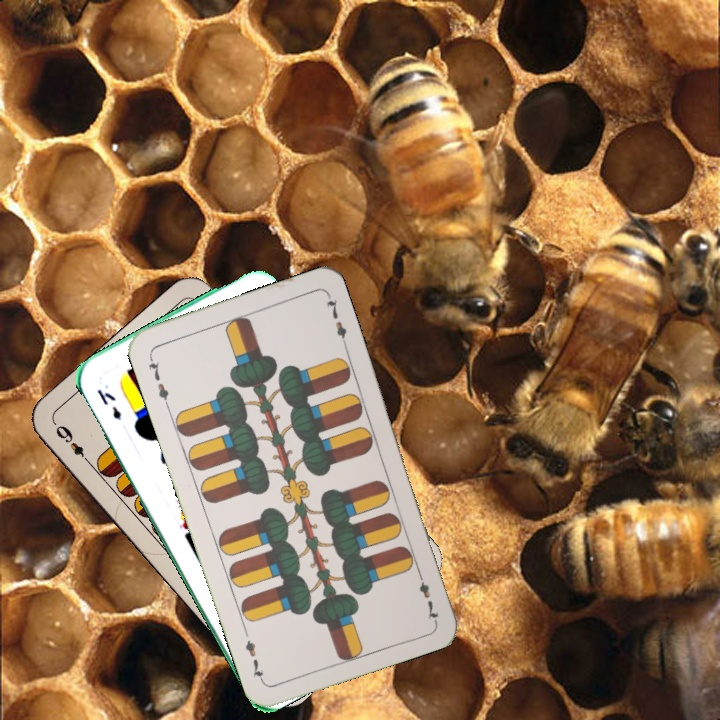E7: (144, 351, 172, 409), (413, 566, 441, 623)
E9: (50, 419, 94, 468)
EK: (93, 385, 124, 424)
